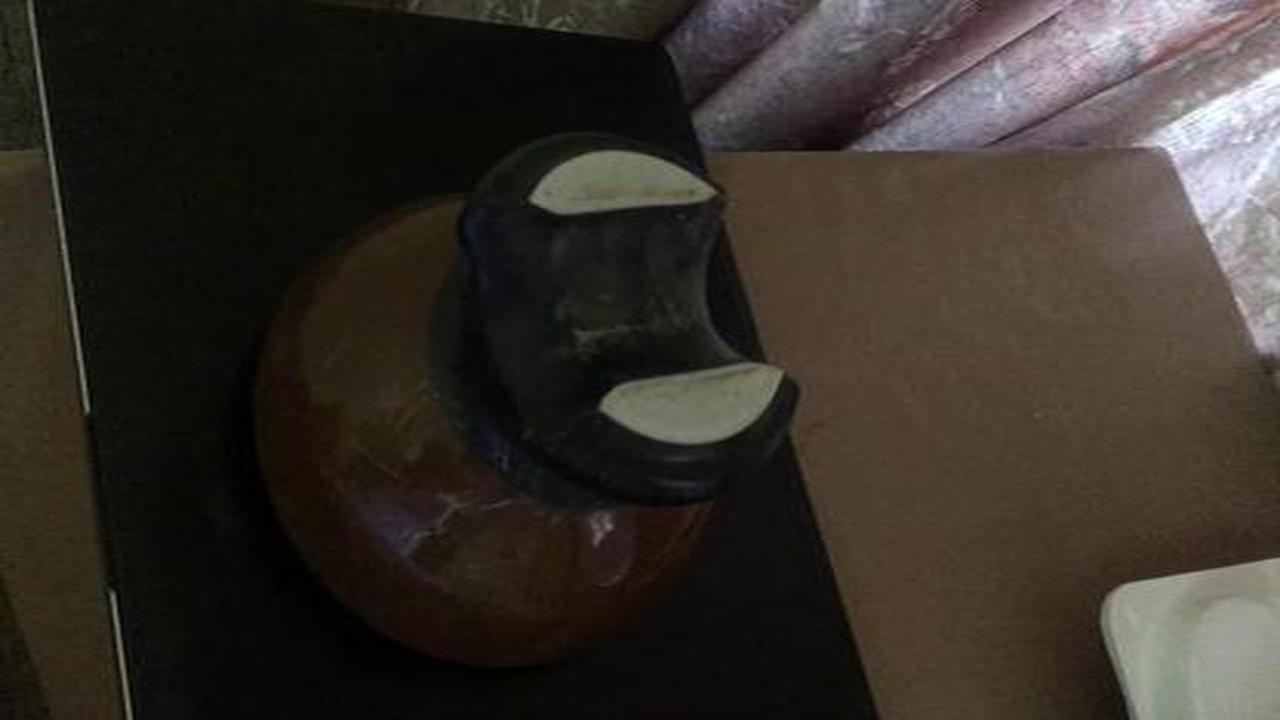insulator_pin: (219, 116, 822, 693)
